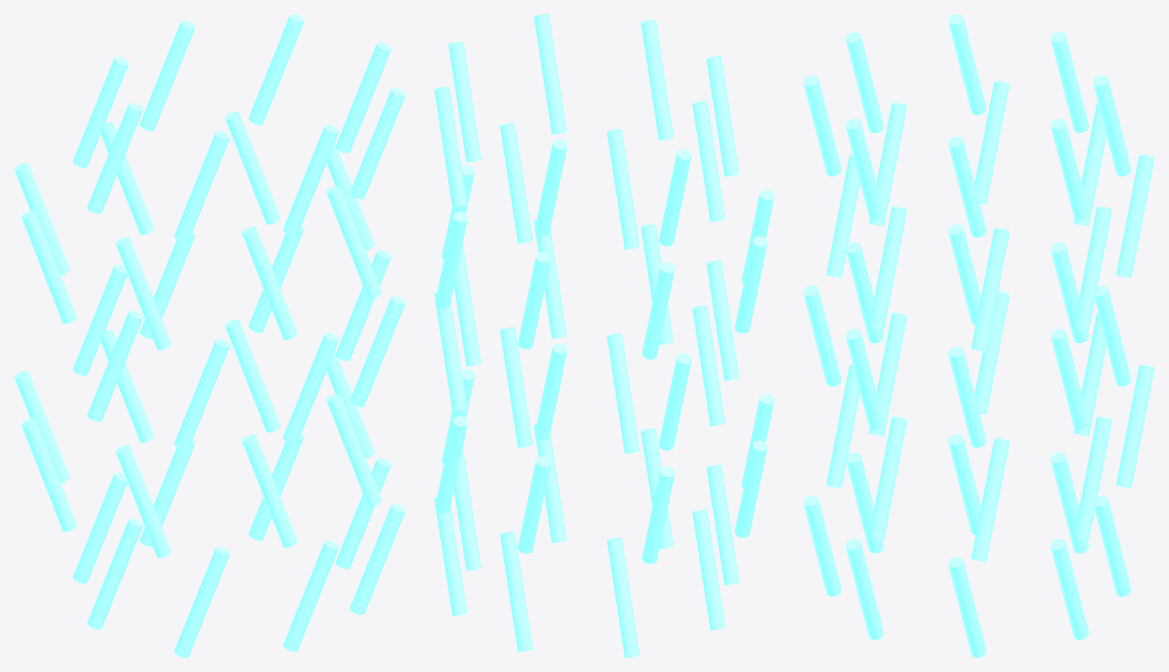
File: Raikage_Skill2.fbx
3 views of the same model, side by side, from view 1: azimuth 30°, elevation 25°; view 2: azimuth 150°, elevation 25°; view 3: azimuth 270°, elevation 25° (orthographic). The views are drawn at different scales.
Visible parts, largest first — view 1: LightningBolt.008, LightningBolt.031, LightningBolt.021, LightningBolt.026, LightningBolt.006, LightningBolt.028, LightningBolt.038, LightningBolt.039, LightningBolt.022, LightningBolt.036, LightningBolt.023, LightningBolt.033 (+28 smaller); view 2: LightningBolt.017, LightningBolt.027, LightningBolt.004, LightningBolt.012, LightningBolt.020, LightningBolt.015, LightningBolt.034, LightningBolt.009, LightningBolt.019, LightningBolt.022, LightningBolt.025, LightningBolt.029 (+28 smaller); view 3: LightningBolt.008, LightningBolt.038, LightningBolt.006, LightningBolt.011, LightningBolt.003, LightningBolt.013, LightningBolt.036, LightningBolt.001, LightningBolt.023, LightningBolt.031, LightningBolt.033, LightningBolt.028 (+28 smaller).
Boxes of the visible parts, x1,y1,x2,y2 form: LightningBolt.008: [225, 111, 280, 224]; LightningBolt.031: [242, 434, 297, 547]; LightningBolt.021: [21, 418, 76, 531]; LightningBolt.026: [115, 445, 171, 557]; LightningBolt.006: [225, 319, 280, 432]; LightningBolt.028: [115, 237, 171, 350]; LightningBolt.038: [326, 186, 381, 298]; LightningBolt.039: [350, 88, 405, 199]; LightningBolt.022: [87, 310, 143, 421]; LightningBolt.036: [326, 393, 381, 506]; LightningBolt.023: [21, 211, 76, 323]; LightningBolt.033: [242, 227, 297, 339]; LightningBolt.017: [606, 333, 639, 453]; LightningBolt.027: [706, 260, 739, 380]; LightningBolt.004: [448, 41, 481, 162]; LightningBolt.012: [500, 327, 532, 447]; LightningBolt.020: [692, 509, 725, 630]; LightningBolt.015: [606, 537, 639, 657]; LightningBolt.034: [640, 20, 673, 140]; LightningBolt.009: [434, 87, 467, 207]; LightningBolt.019: [606, 129, 639, 249]; LightningBolt.022: [692, 305, 725, 425]; LightningBolt.025: [706, 464, 739, 584]; LightningBolt.029: [706, 56, 739, 176]; LightningBolt.008: [1073, 206, 1112, 329]; LightningBolt.038: [869, 206, 907, 329]; LightningBolt.006: [1073, 416, 1112, 539]; LightningBolt.011: [1116, 364, 1154, 487]; LightningBolt.003: [971, 228, 1009, 351]; LightningBolt.013: [1116, 154, 1154, 277]; LightningBolt.036: [869, 416, 907, 539]; LightningBolt.001: [971, 438, 1009, 561]; LightningBolt.023: [974, 81, 1009, 204]; LightningBolt.031: [826, 364, 859, 487]; LightningBolt.033: [826, 154, 859, 277]; LightningBolt.028: [869, 102, 907, 225].
Size of the model in its own units: 139 by 202 by 121.
